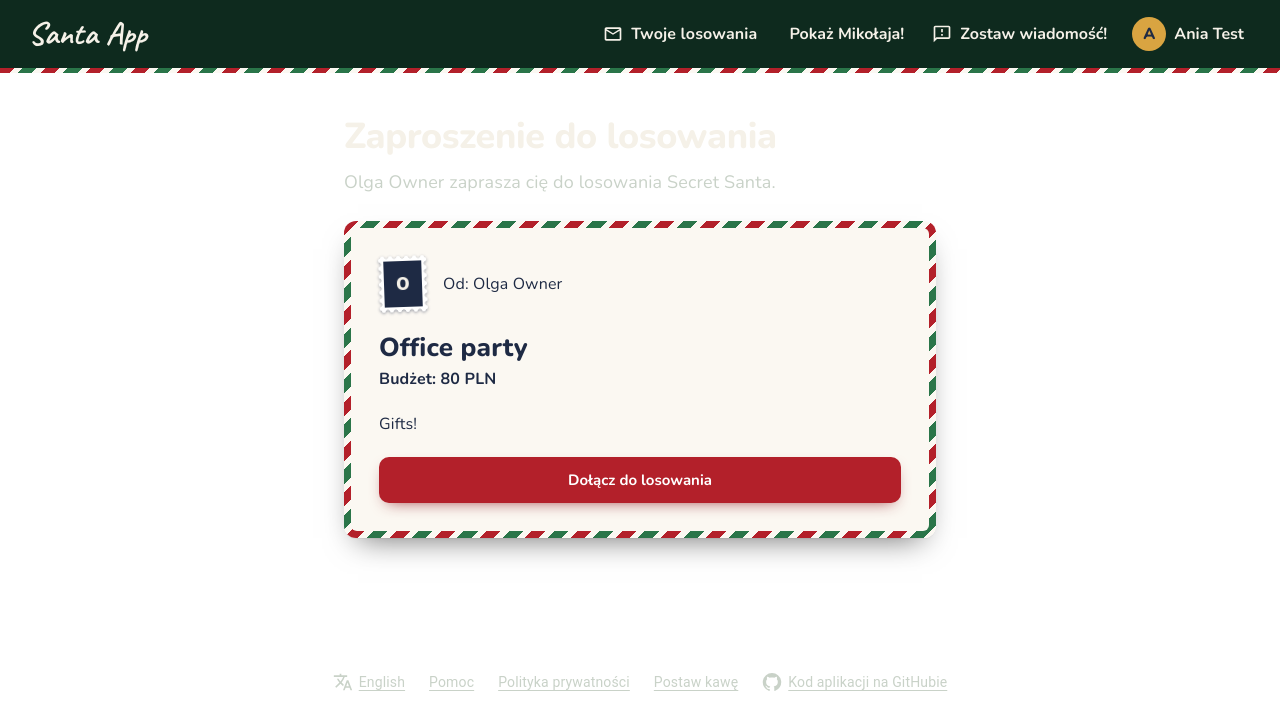
Scenario: JoinToDrawPage › joins with the key from the invite link, without the password
Click the button "Dołącz do losowania". click: point(640, 480)
box: [379,457,901,503]
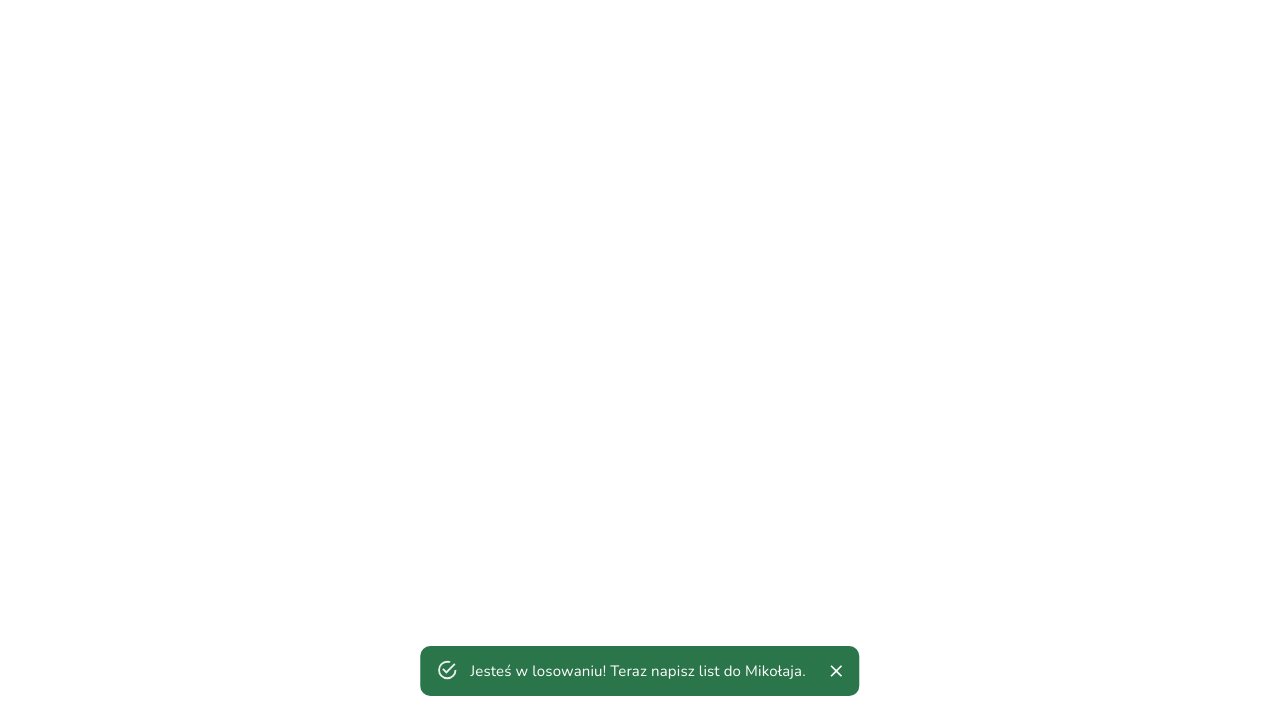
Now the text "Jesteś w losowaniu! Teraz napisz list do Mikołaja." is shown, box [470,660,806,680]
